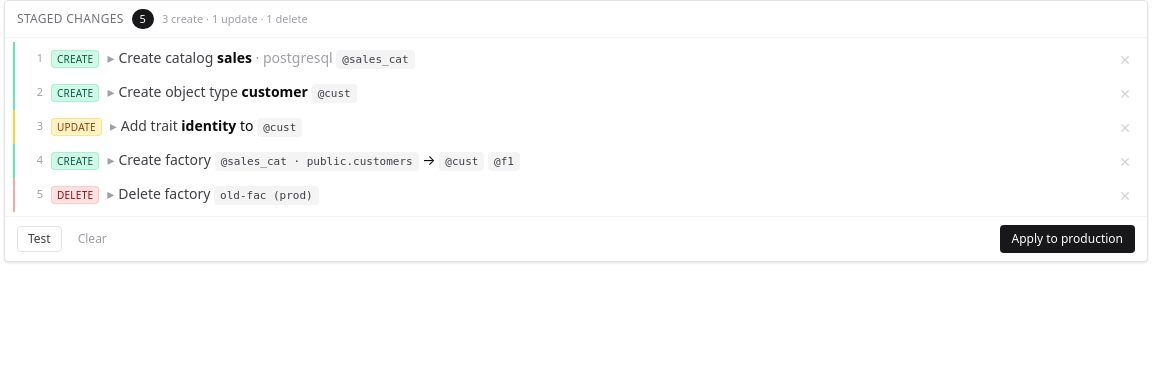
Test: ChangesetPanel › surfaces a promote conflict (409) as a drift banner
The width and height of the screenshot is (1152, 370).
What coordinates should you click on to do the following:
click the button with test id "apply-changeset"
I would click on:
 (1067, 239)
Its box is [1000, 225, 1135, 253].
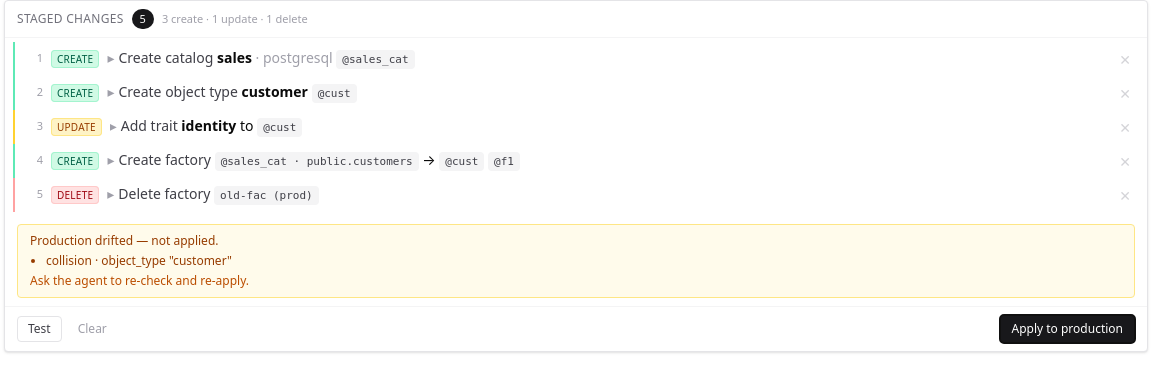
Result: the element with test id "apply-conflict" shows "Production drifted" at [30, 232, 218, 249]
Result: the element with test id "apply-conflict" shows "collision" at [46, 252, 92, 269]
Result: the element with test id "apply-conflict" shows "customer" at [166, 252, 232, 269]
